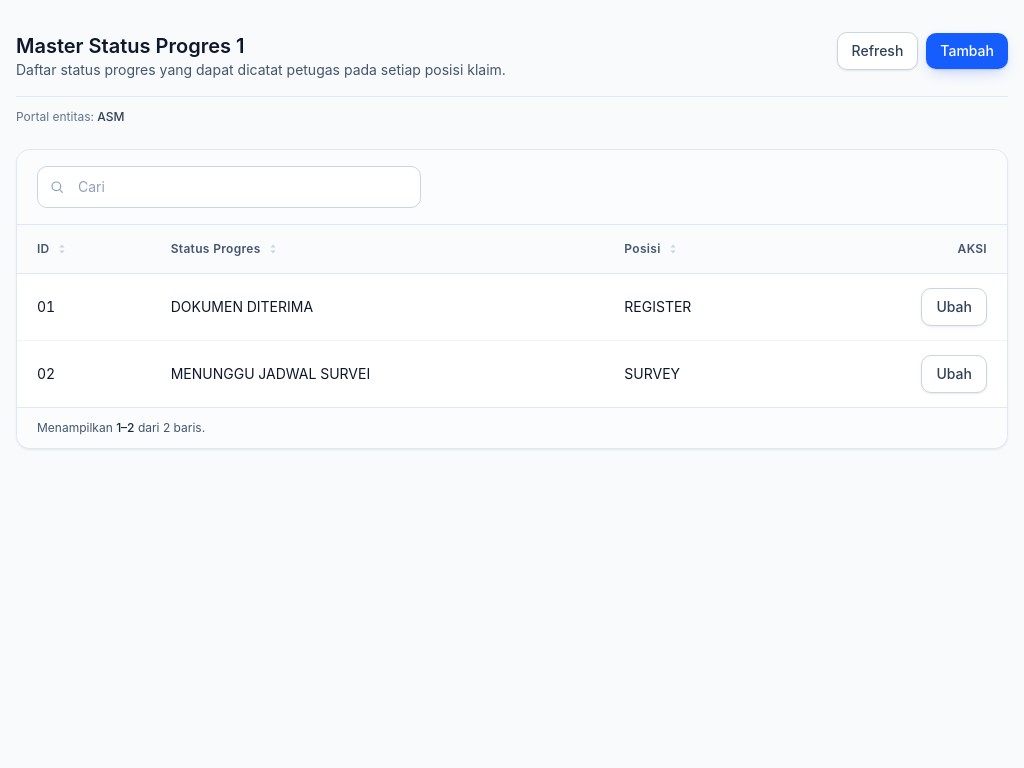
Scenario: penambahan › menolak posisi yang belum dipilih
Click the button "Tambah": (967, 51) 926,33 -> 1008,69
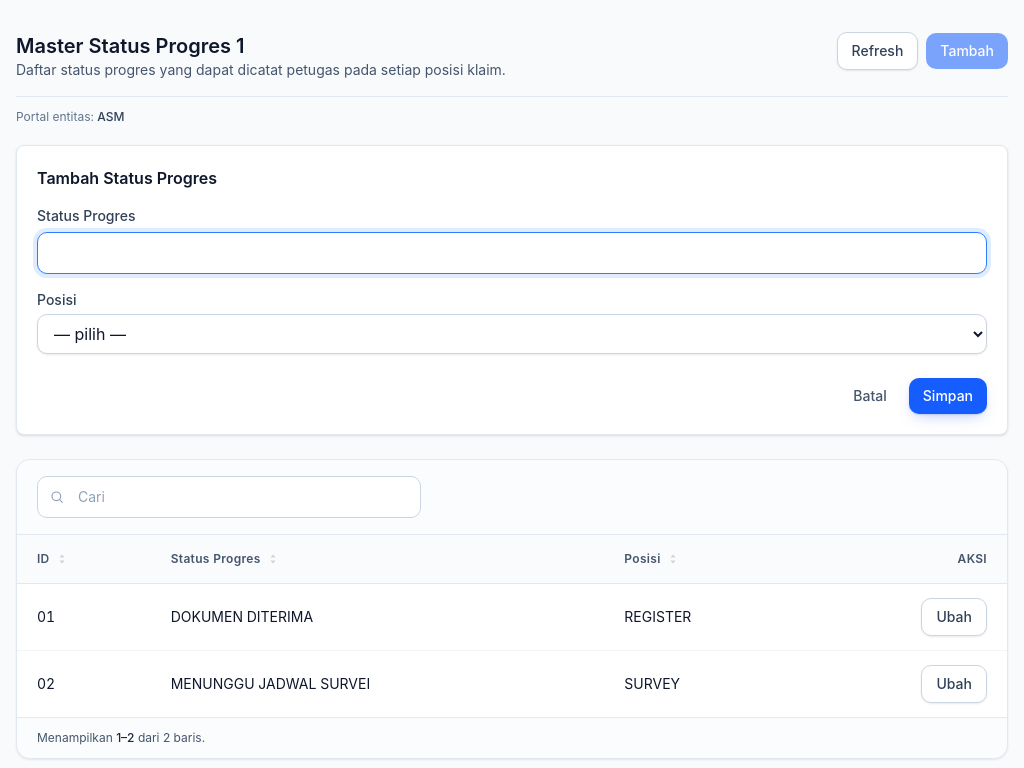
In the field labelled "Status Progres": (512, 253) 37,232 -> 987,274, type "APA SAJA"
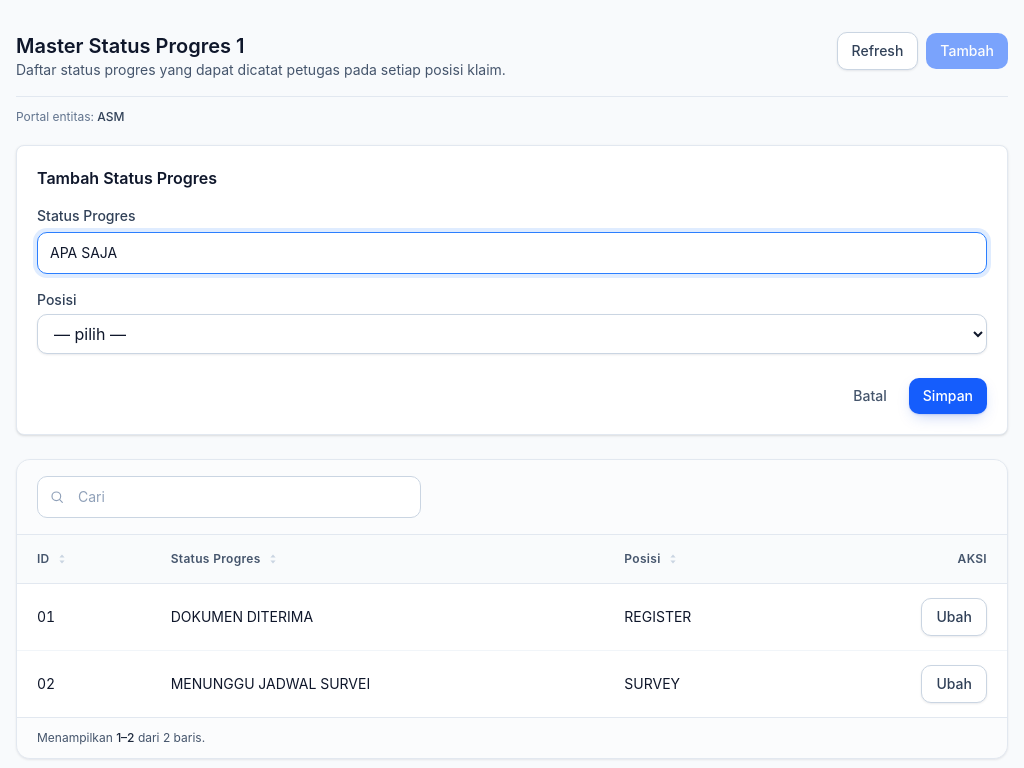
Click the button "Simpan": (948, 396) 909,378 -> 987,414
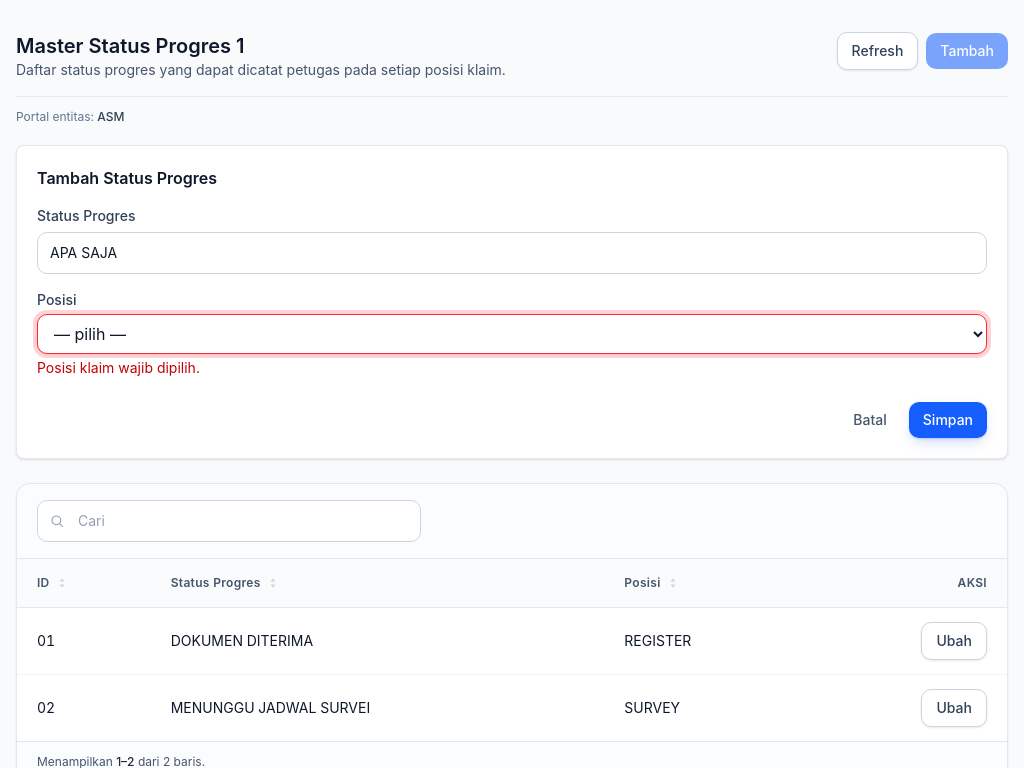
Check: the text "Posisi klaim wajib dipilih." is shown, box 37,359 -> 200,376
